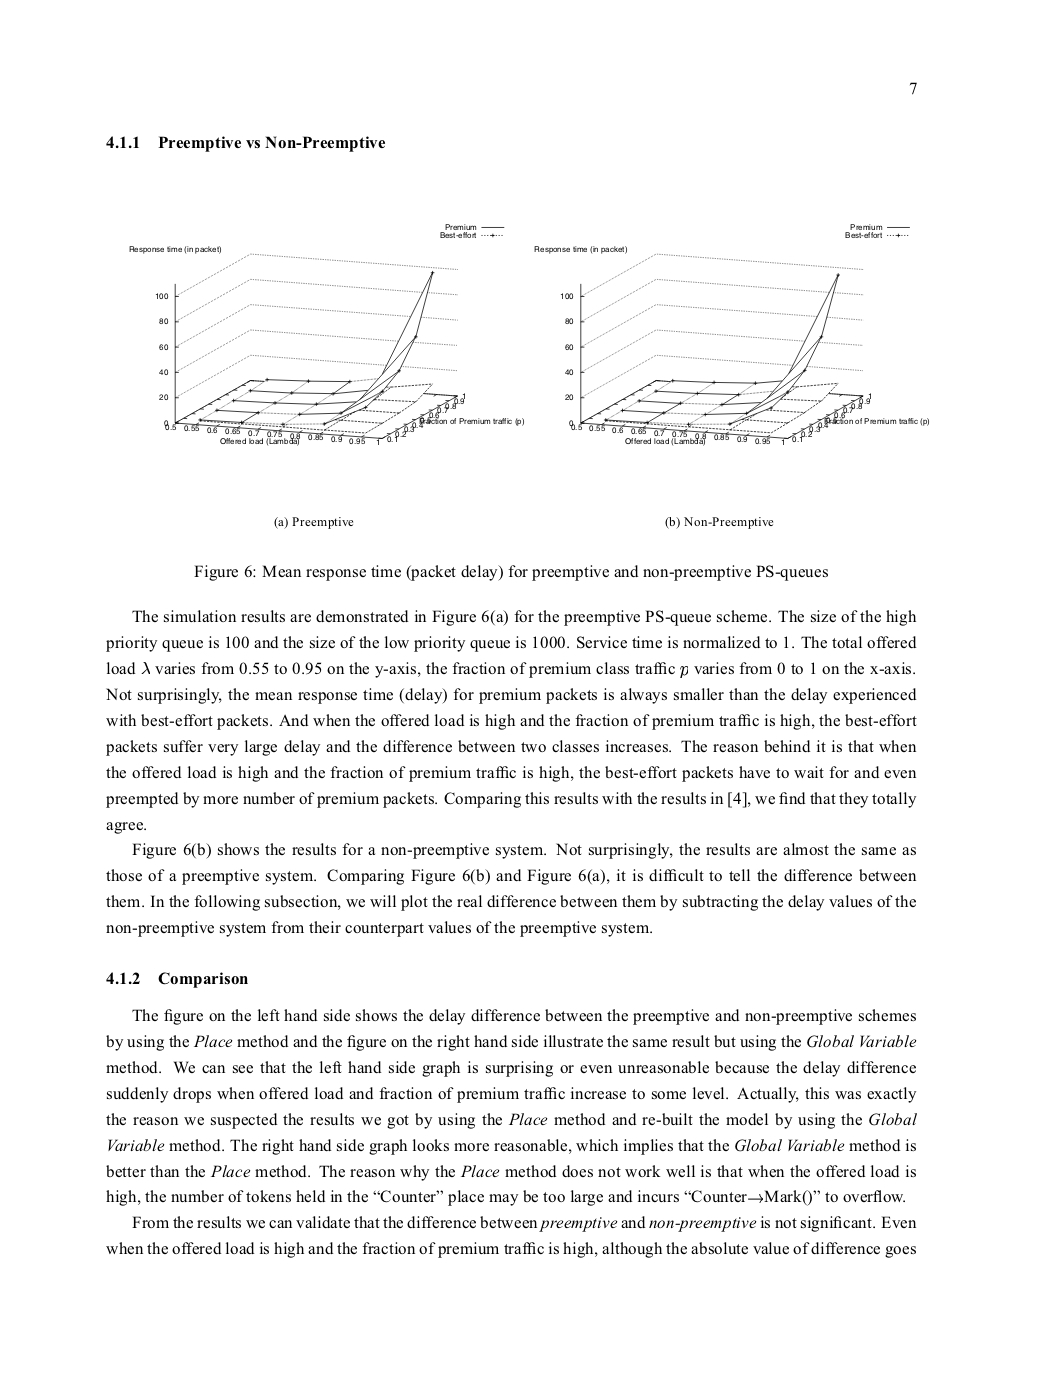figure: (534, 224, 928, 445), (129, 224, 523, 445)
